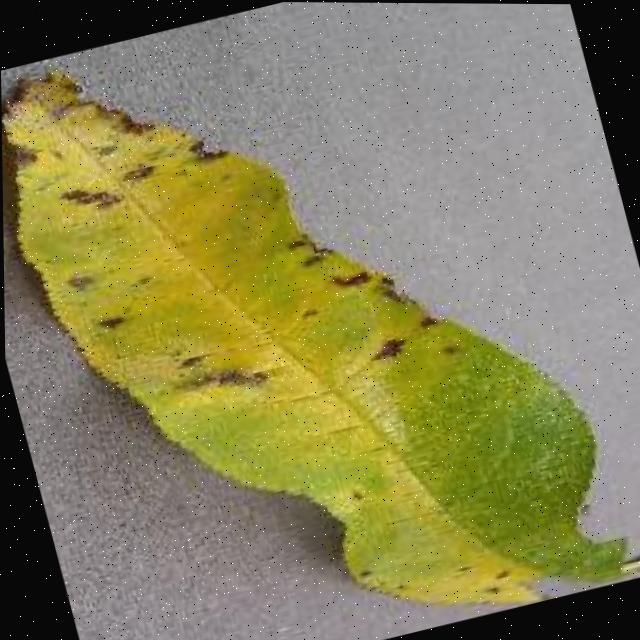Bacterial_spot: (0, 0, 498, 508)
